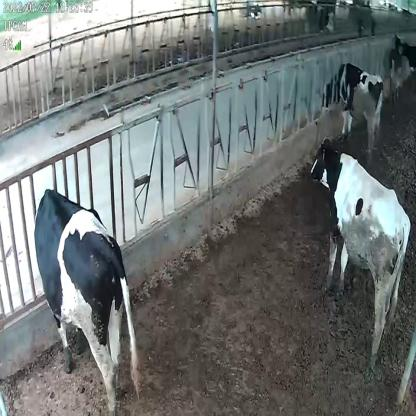cow: (309, 133, 412, 372), (33, 190, 140, 414), (321, 62, 384, 155)
